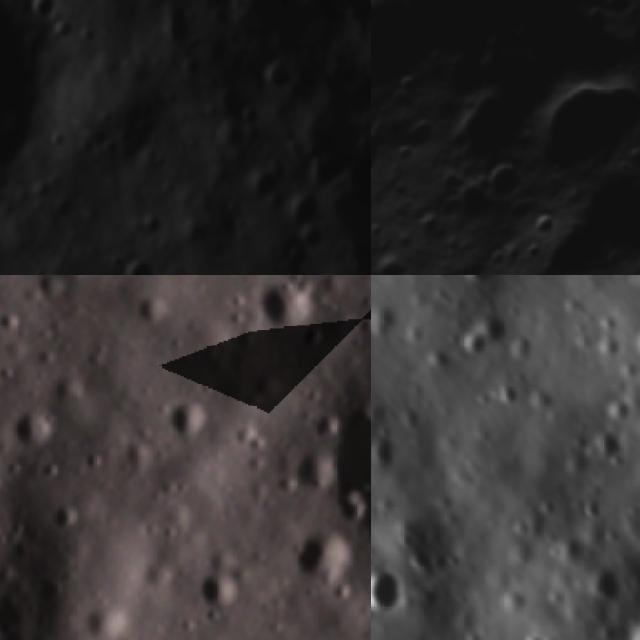crater: (511, 46, 640, 207), (267, 357, 371, 546), (277, 515, 366, 607), (442, 296, 528, 372), (241, 275, 325, 346), (149, 384, 225, 455), (371, 551, 425, 637), (3, 396, 69, 459), (577, 561, 640, 624), (242, 159, 295, 210), (472, 158, 523, 209), (44, 495, 90, 542), (156, 1, 198, 49), (281, 189, 322, 238), (398, 112, 439, 156), (260, 57, 297, 103), (213, 116, 255, 154), (619, 309, 640, 378), (451, 275, 514, 298), (574, 0, 614, 36), (410, 206, 447, 244), (371, 242, 413, 275), (170, 56, 208, 90), (527, 206, 561, 242), (388, 66, 422, 100), (118, 250, 159, 275), (19, 0, 57, 26), (517, 237, 548, 268), (421, 40, 452, 71), (600, 0, 640, 23), (483, 246, 511, 274), (371, 215, 388, 243)
